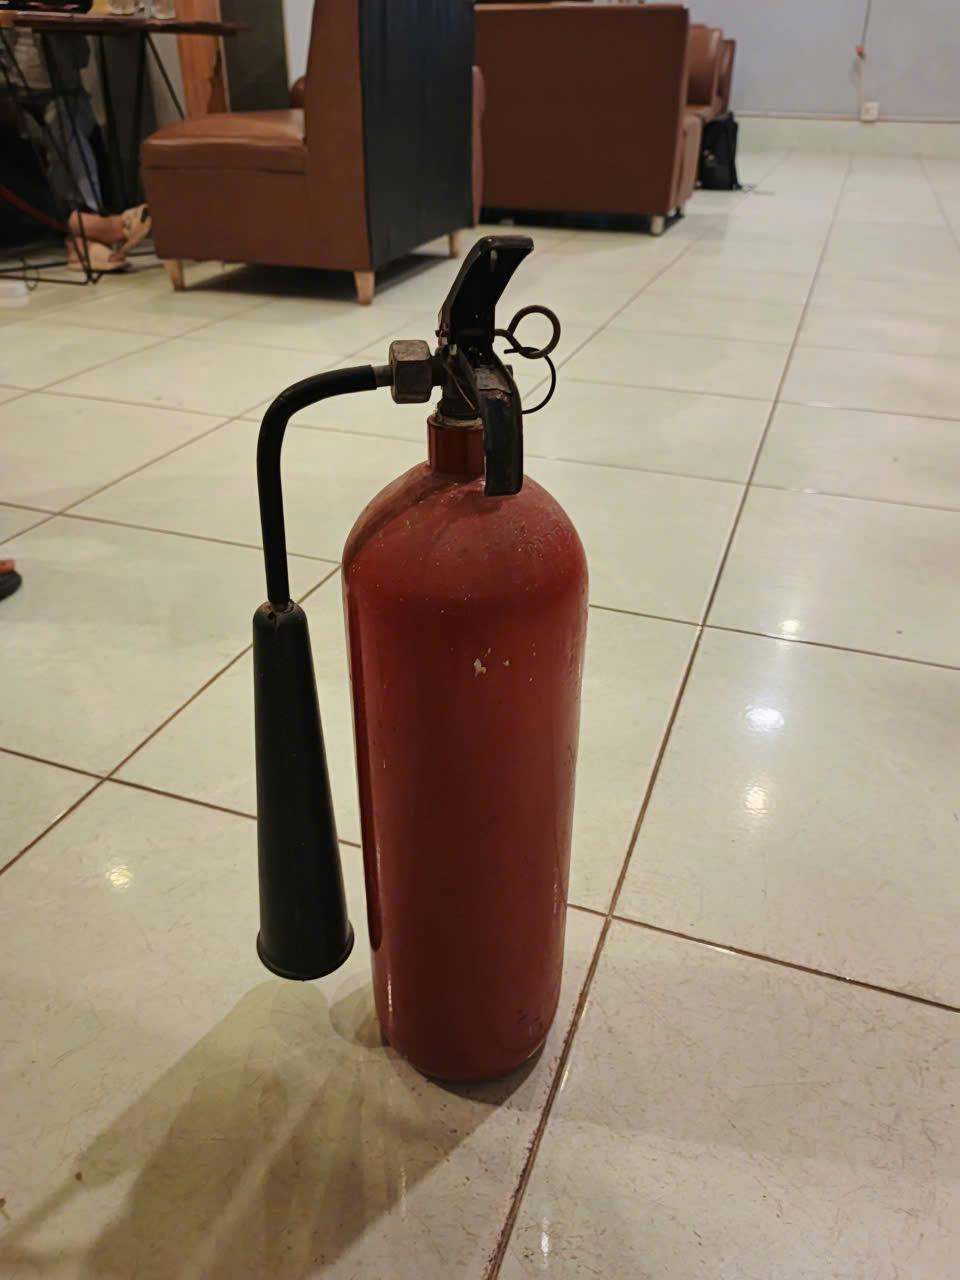Con lai: (250, 231, 592, 1087)
